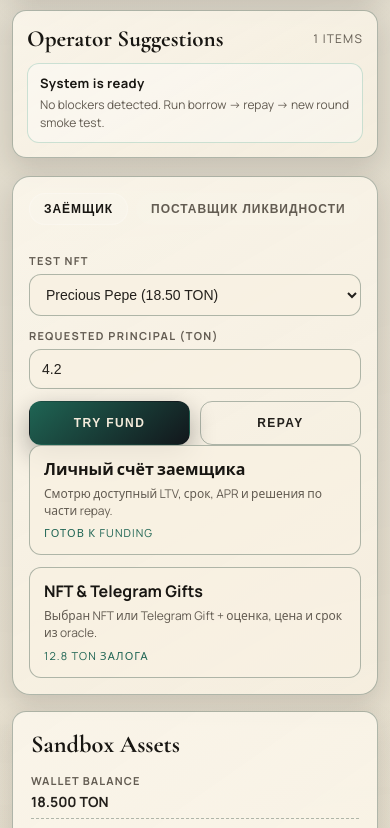
Scenario: demo sandbox: success path fund then repay
(page scrolled)
Click the button "TRY FUND".
click(110, 423)  # box [29, 401, 190, 445]
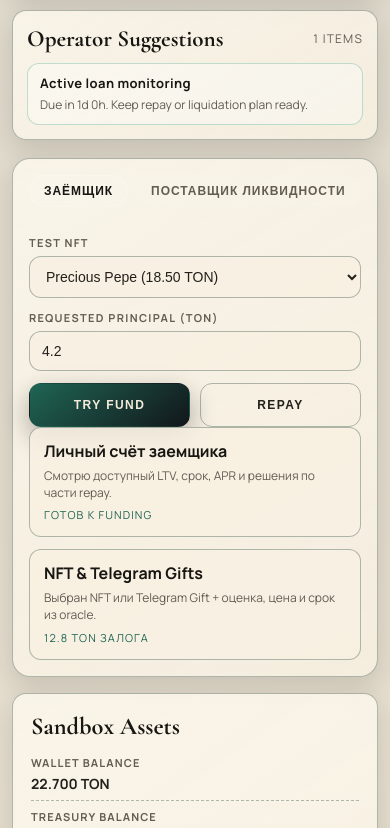
Click the button "REPAY".
click(280, 405)  # box [200, 383, 361, 427]
(page scrolled)
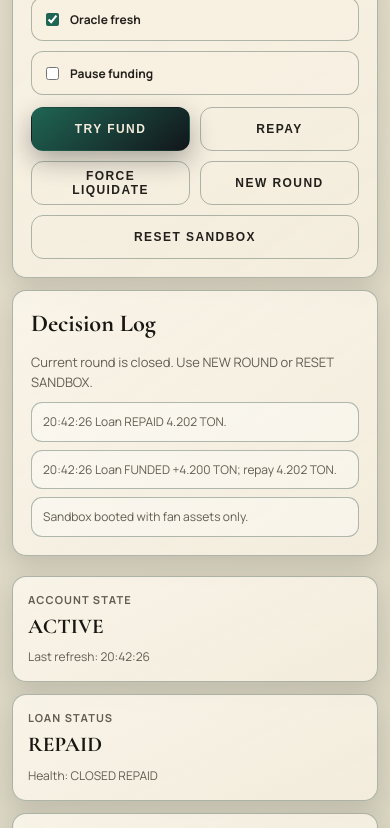
Result: the list item "20:42:26 Loan REPAID 4.202 TON." is shown at [31, 402, 359, 442]
